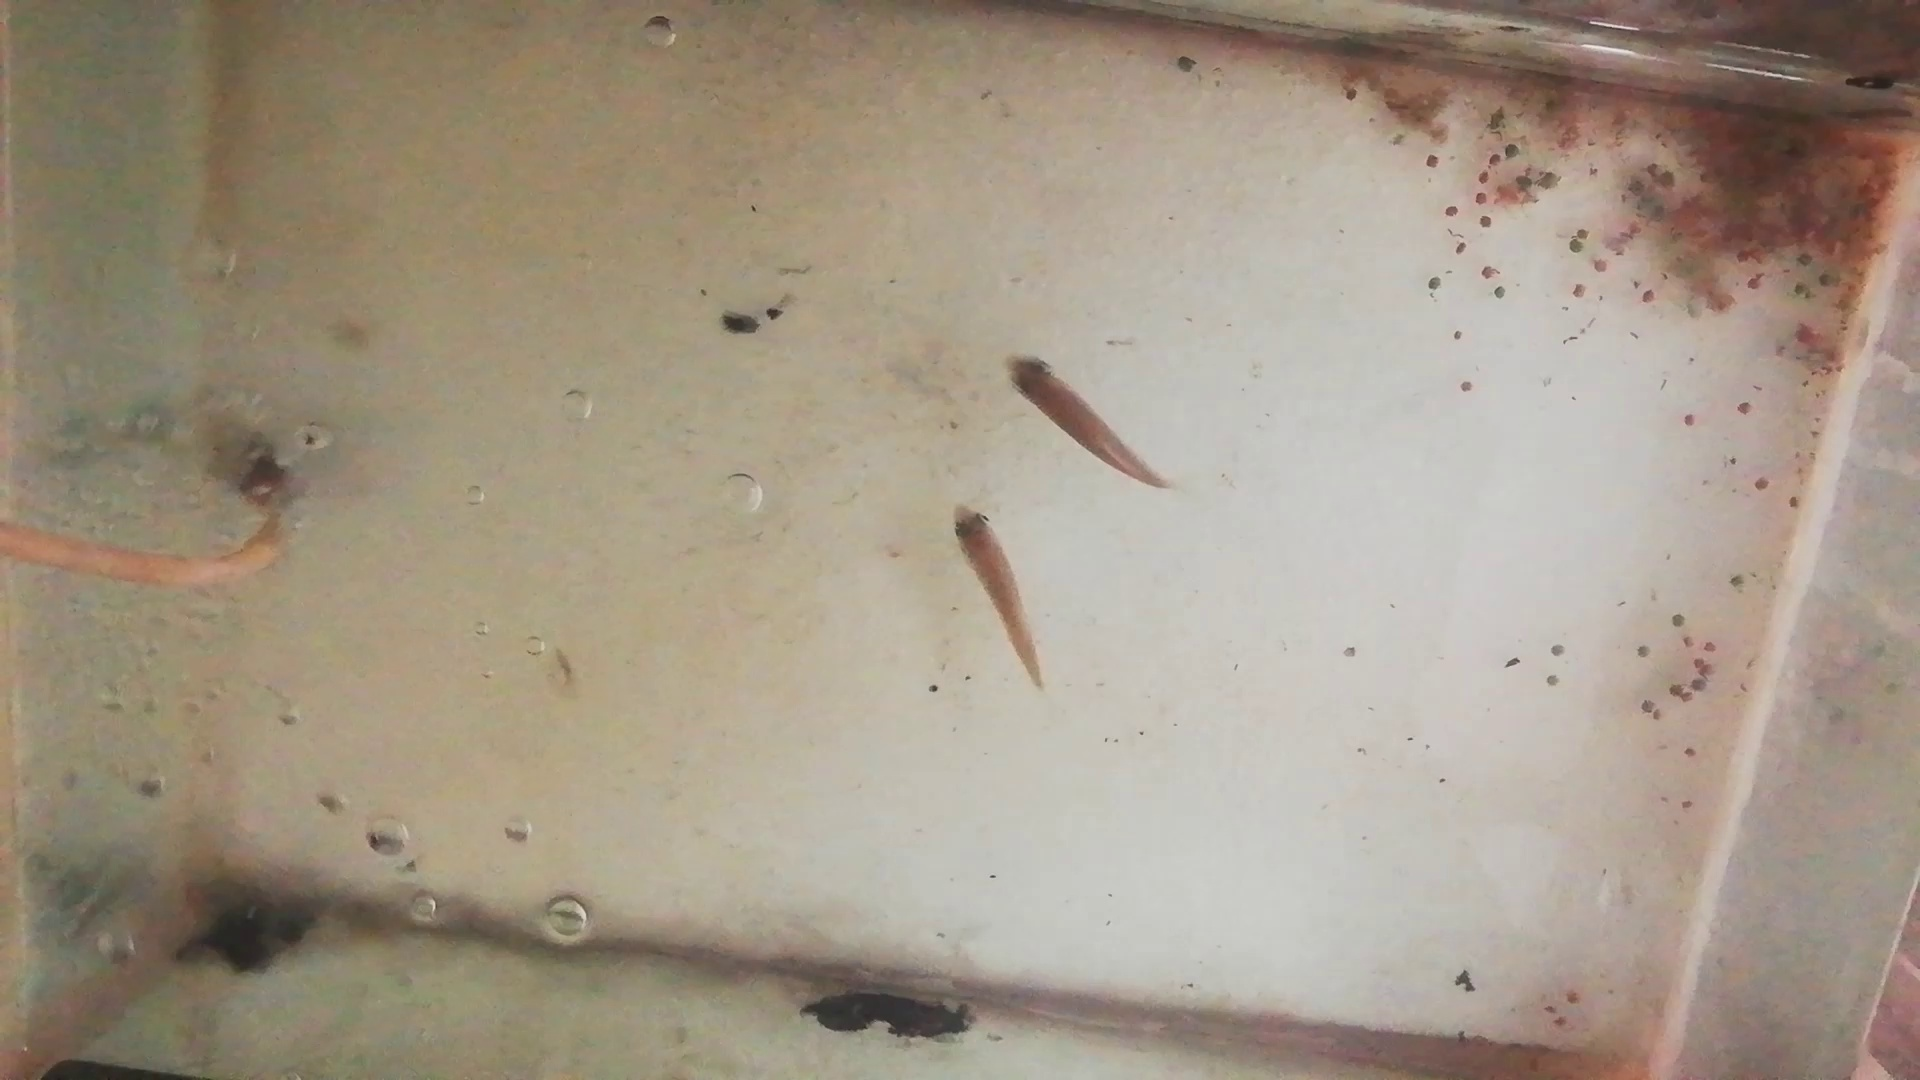fish: (1005, 357, 1163, 485), (949, 504, 1043, 684)
